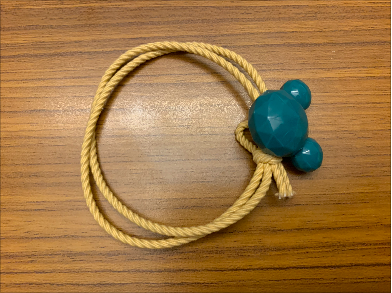Nonfood: (82, 42, 323, 250)
